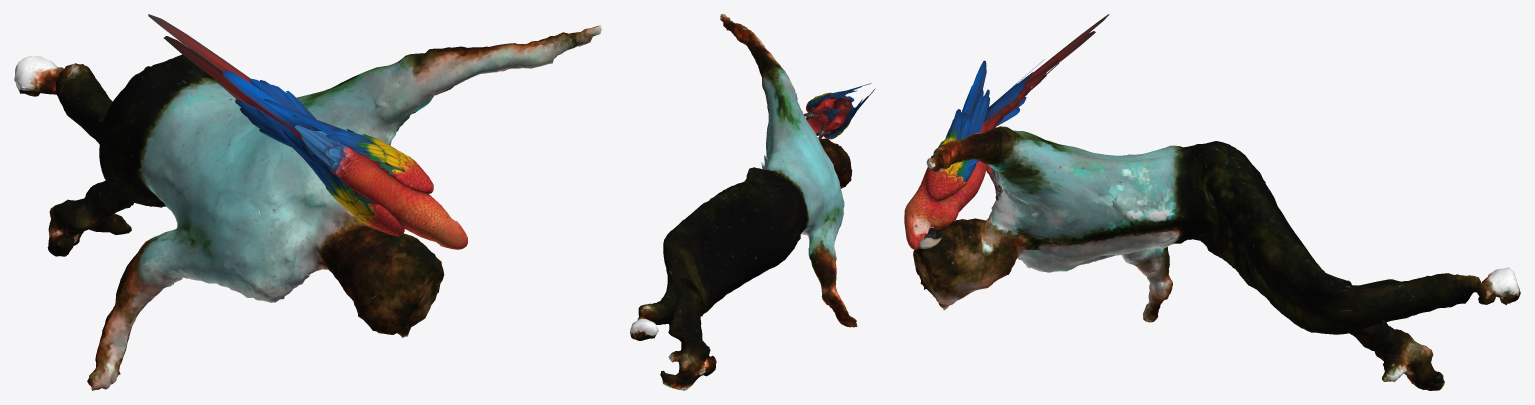
The model's file is lalaland_after.gltf.
3 renders of one model, left to right at view 1: azimuth 30°, elevation 25°; view 2: azimuth 150°, elevation 25°; view 3: azimuth 270°, elevation 25°, orthographic. The views are drawn at different scales.
Parts seen in each view (by area): view 1: pose0, node_id30_0; view 2: pose0, node_id30_0; view 3: pose0, node_id30_0.
Part boxes in pixels (box(x1,y1,x2,y2)): pose0: box(14, 25, 601, 390); node_id30_0: box(148, 14, 467, 249); pose0: box(630, 14, 857, 390); node_id30_0: box(803, 83, 875, 140); pose0: box(913, 126, 1520, 390); node_id30_0: box(904, 14, 1109, 249).
Bounding box in the file's own units: 0.7135 × 0.7357 × 1.23.
Materials: 2 (2 with a texture image).
